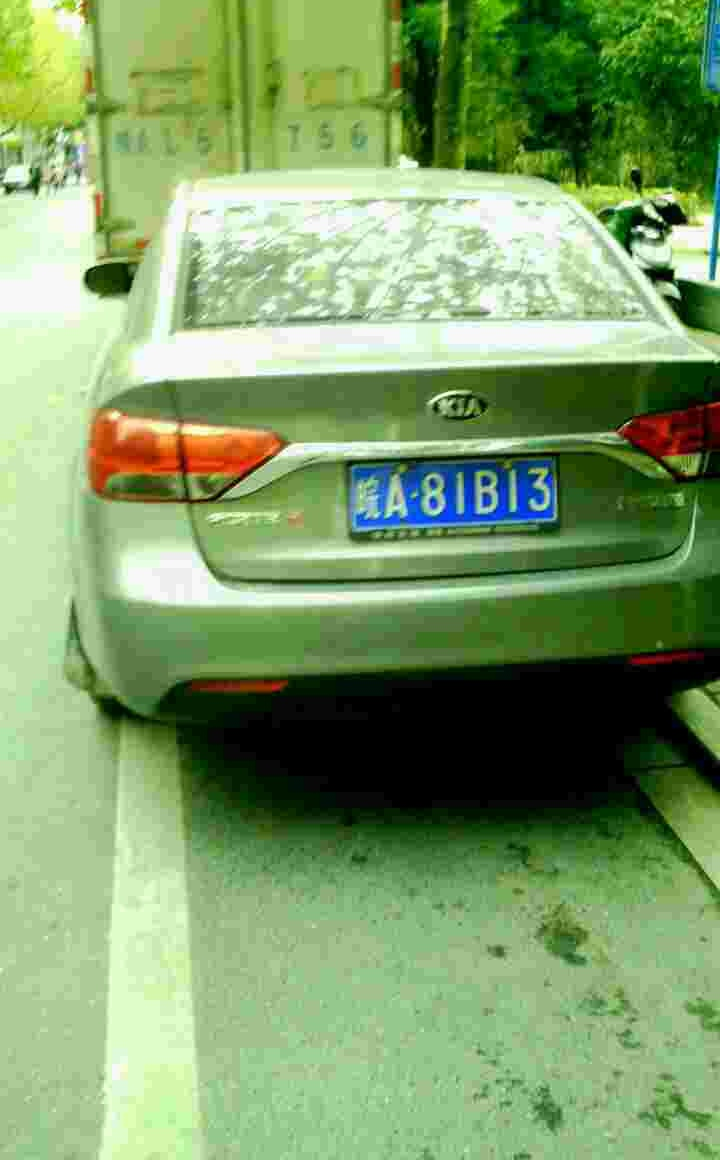car: (340, 454, 557, 525)
